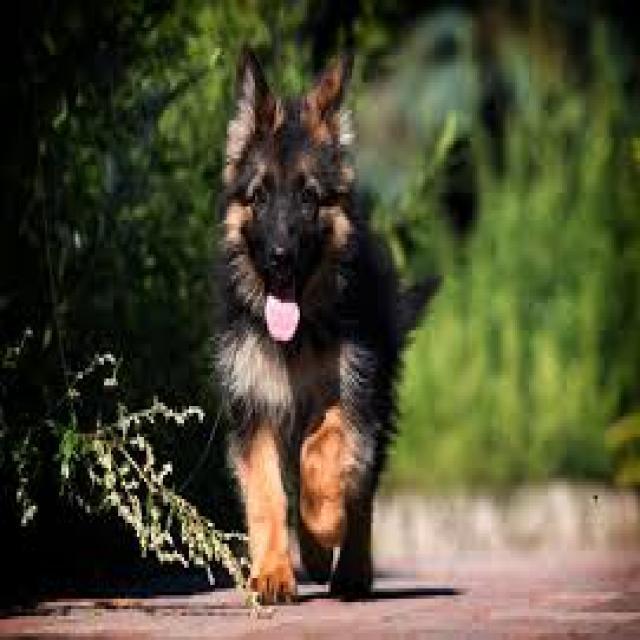Dog: (204, 35, 400, 619)
